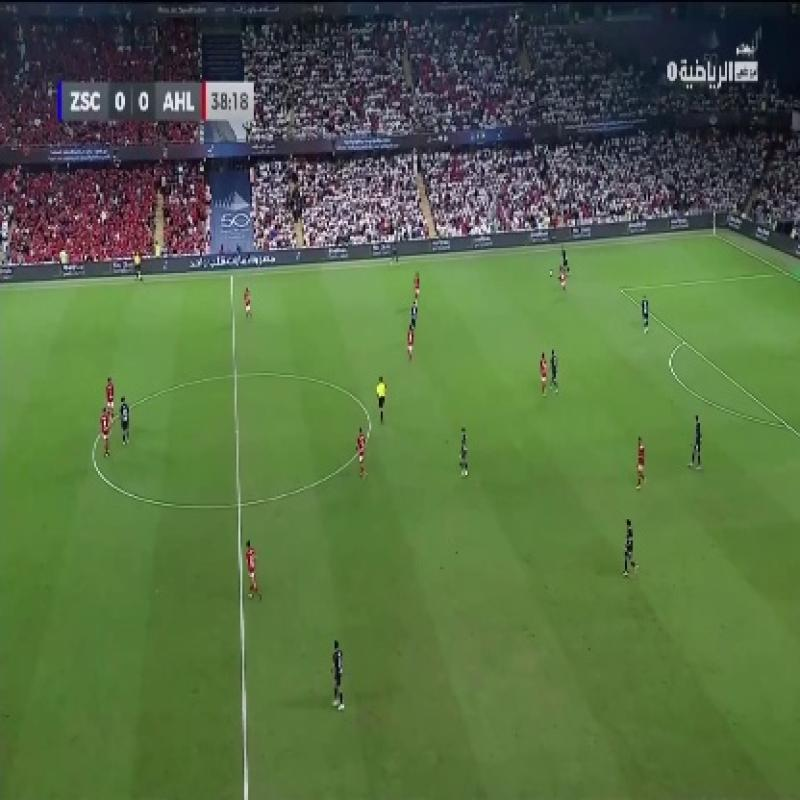1: (704, 226, 722, 240)
10: (674, 330, 690, 348)
11: (778, 414, 796, 435)
13: (222, 264, 238, 286)
14: (221, 360, 248, 390)
15: (225, 484, 250, 519)
9: (612, 278, 626, 296)
c: (82, 442, 105, 468), (362, 410, 378, 432)
